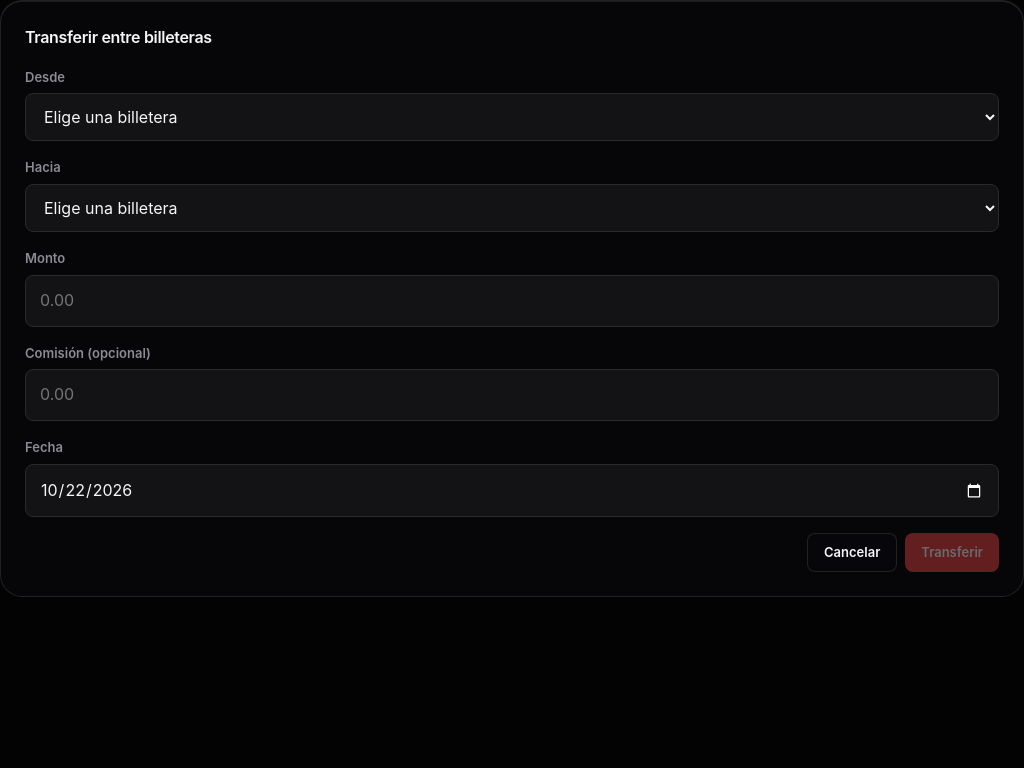
Scenario: TransferForm › pide el monto convertido solo cuando las billeteras tienen moneda distinta
Step 1. Select "Cash (USD)" in the dropdown labelled "Desde" → (512, 117), box top-left (25, 93), bottom-right (999, 141)
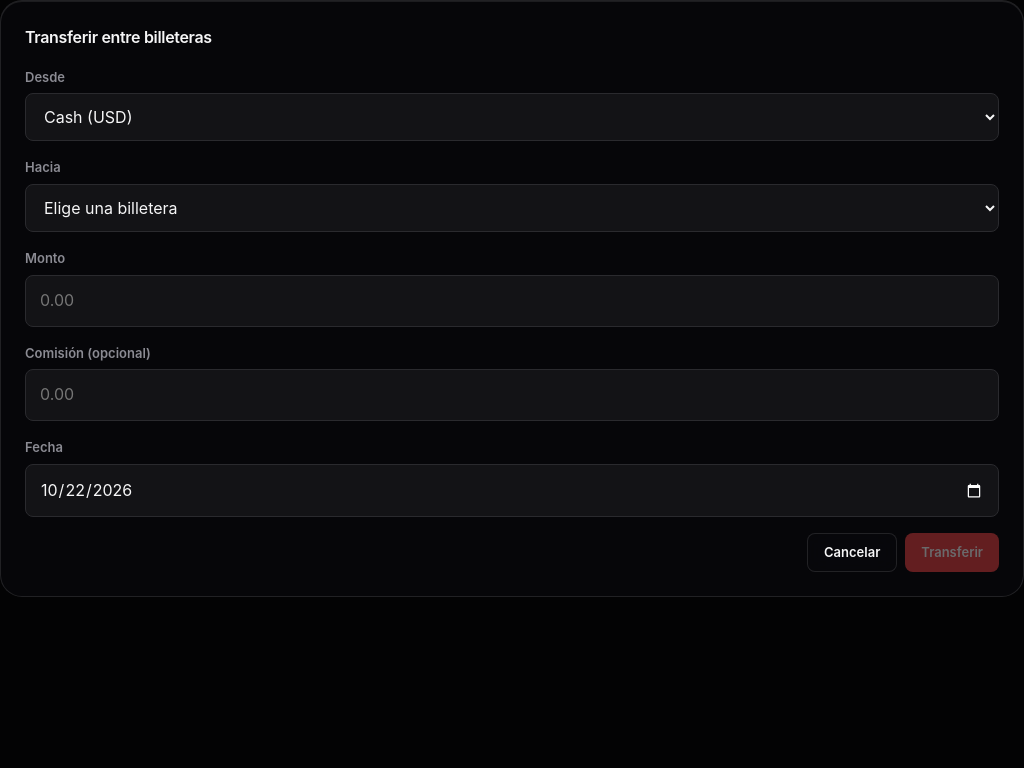
Step 2. Select "Banco (USD)" in the dropdown labelled "Hacia" → (512, 208), box top-left (25, 184), bottom-right (999, 232)
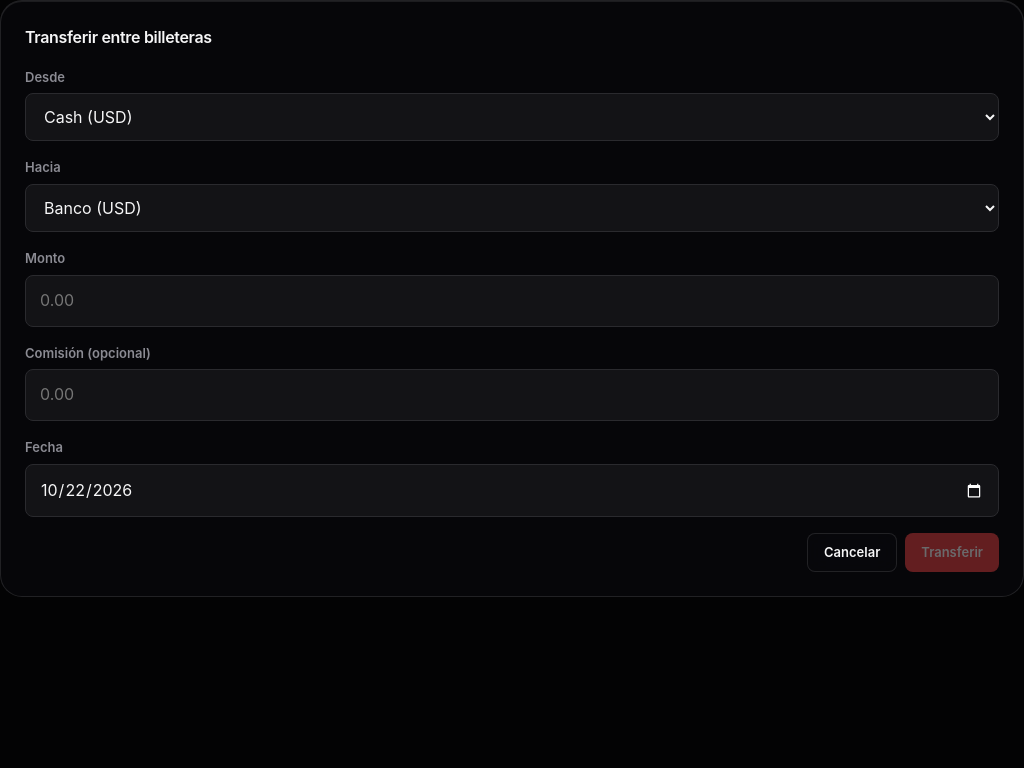
Check: the text "Monto convertido" is not shown
Step 3. Select "Binance (VEF)" in the dropdown labelled "Hacia" → (512, 208), box top-left (25, 184), bottom-right (999, 232)
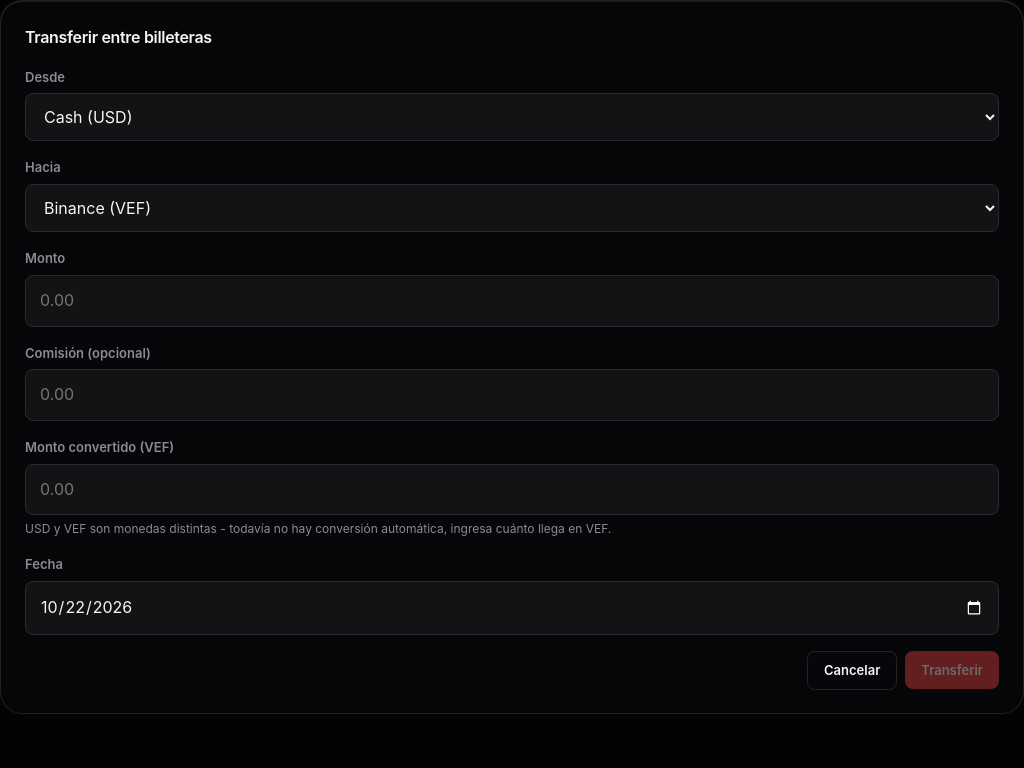
Check: the text "Monto convertido" is shown, box top-left (25, 439), bottom-right (174, 455)
